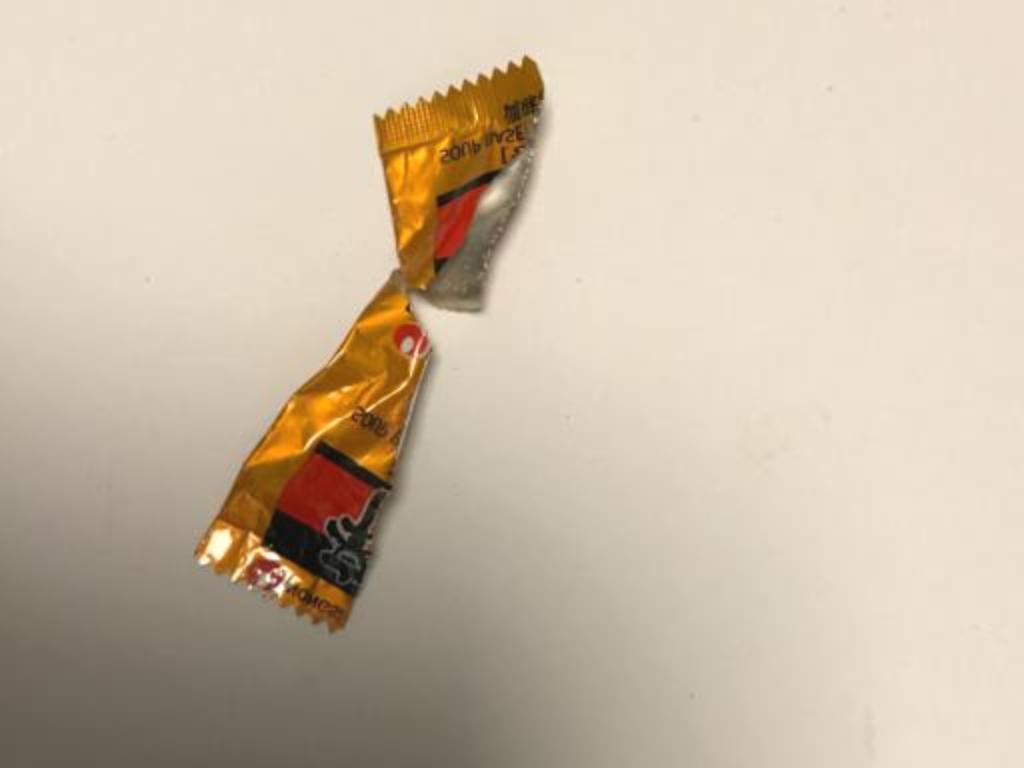garbage: (151, 56, 579, 658)
